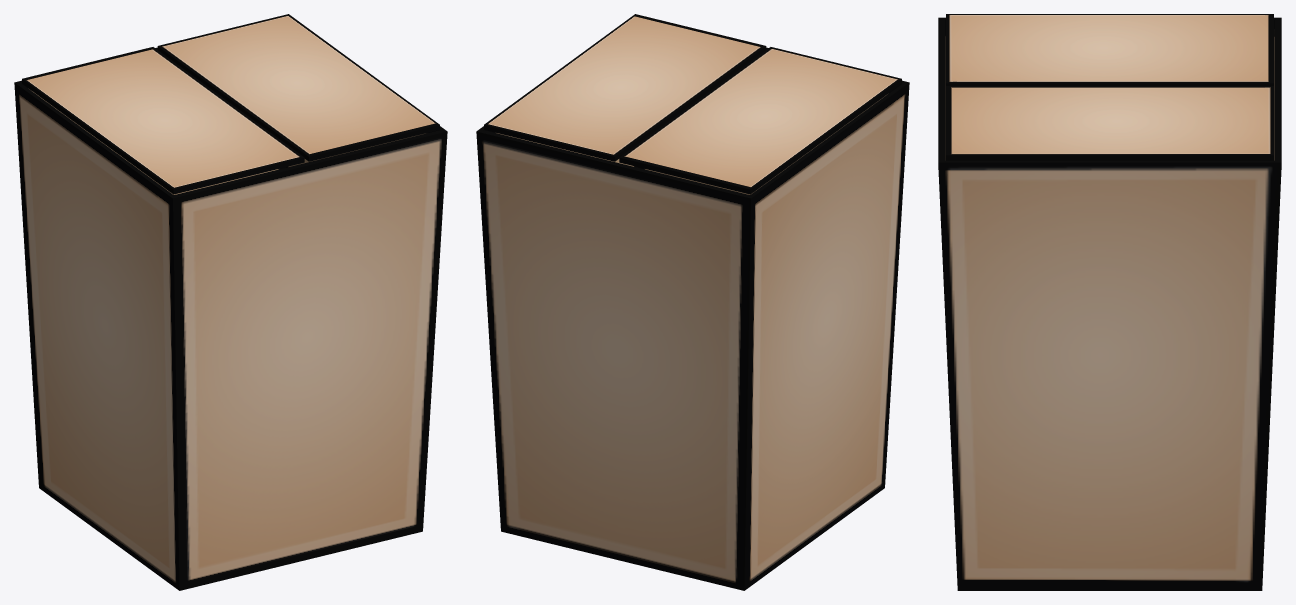
File: Box_Tall.fbx
3 renders of one model, left to right at view 1: azimuth 30°, elevation 25°; view 2: azimuth 150°, elevation 25°; view 3: azimuth 270°, elevation 25°, orthographic. The views are drawn at different scales.
Parts seen in each view (by area): view 1: b_Tall_Base, b_Tall_Flap_01, b_Tall_Flap_02; view 2: b_Tall_Base, b_Tall_Flap_01, b_Tall_Flap_02; view 3: b_Tall_Base, b_Tall_Flap_02, b_Tall_Flap_01.
Part boxes in pixels (x1,y1,x2,y2): b_Tall_Base: [14, 47, 447, 590]; b_Tall_Flap_01: [22, 47, 304, 194]; b_Tall_Flap_02: [157, 14, 439, 161]; b_Tall_Base: [476, 47, 909, 590]; b_Tall_Flap_01: [619, 47, 901, 194]; b_Tall_Flap_02: [484, 14, 766, 161]; b_Tall_Base: [938, 17, 1281, 590]; b_Tall_Flap_02: [946, 86, 1273, 160]; b_Tall_Flap_01: [946, 14, 1273, 85].
Bounding box in the file's own units: 10 × 14.2 × 10.
Materials: 1 (1 with a texture image).
